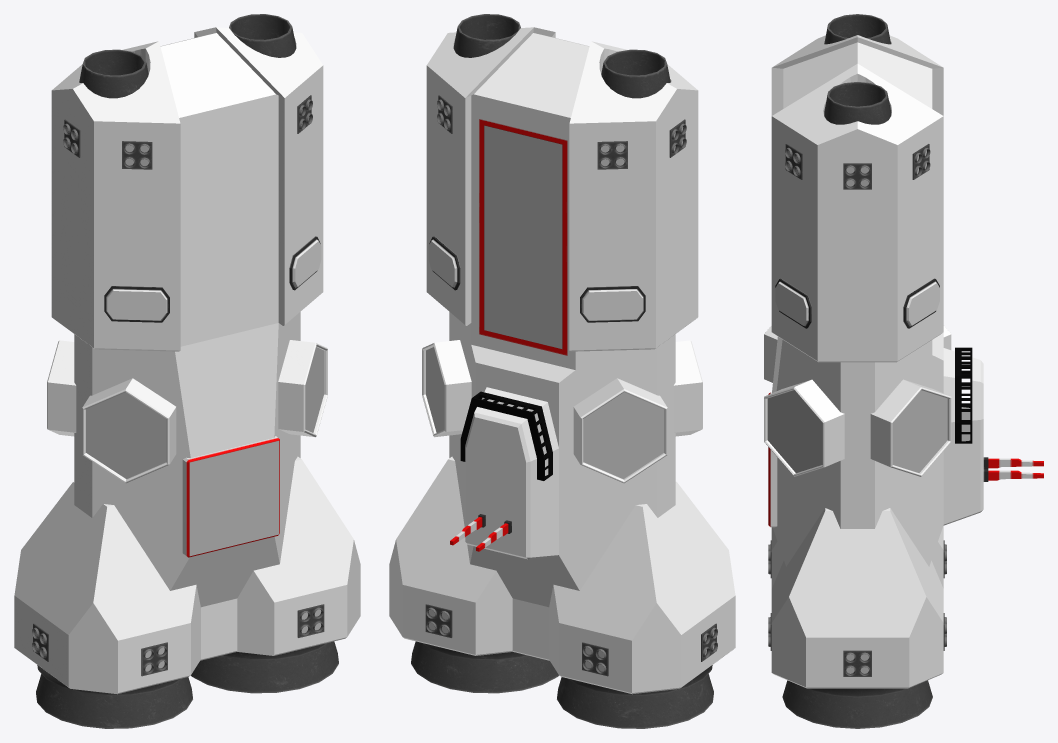
The model's file is Wicher6.fbx.
3 renders of one model, left to right at view 1: azimuth 30°, elevation 25°; view 2: azimuth 150°, elevation 25°; view 3: azimuth 270°, elevation 25°, orthographic. The views are drawn at different scales.
Visible parts, largest first — view 1: Hull_LOD0, Engines_LOD0; view 2: Hull_LOD0, Engines_LOD0; view 3: Hull_LOD0, Engines_LOD0.
Boxes of the visible parts, bbox=[...] form: Hull_LOD0: bbox=[14, 27, 360, 694]; Engines_LOD0: bbox=[32, 14, 338, 728]; Hull_LOD0: bbox=[389, 27, 735, 694]; Engines_LOD0: bbox=[411, 14, 717, 728]; Hull_LOD0: bbox=[764, 35, 1043, 688]; Engines_LOD0: bbox=[768, 14, 946, 728].
Size of the model in its own units: 286 by 590 by 244.
